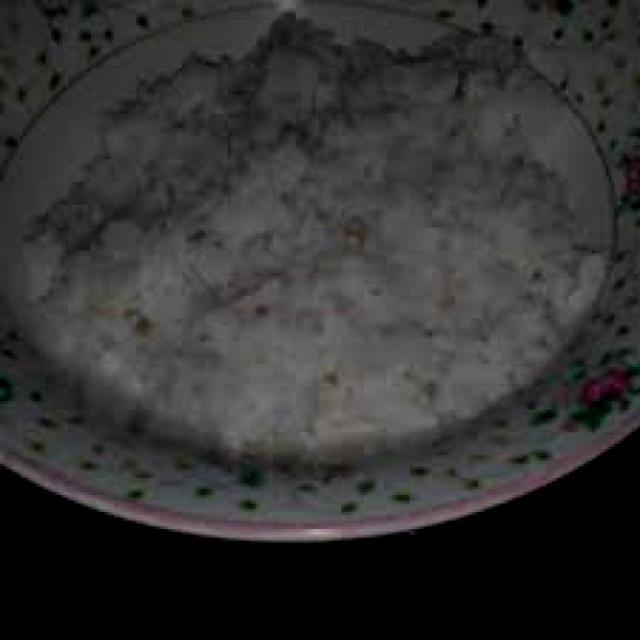rice: (26, 12, 587, 448)
